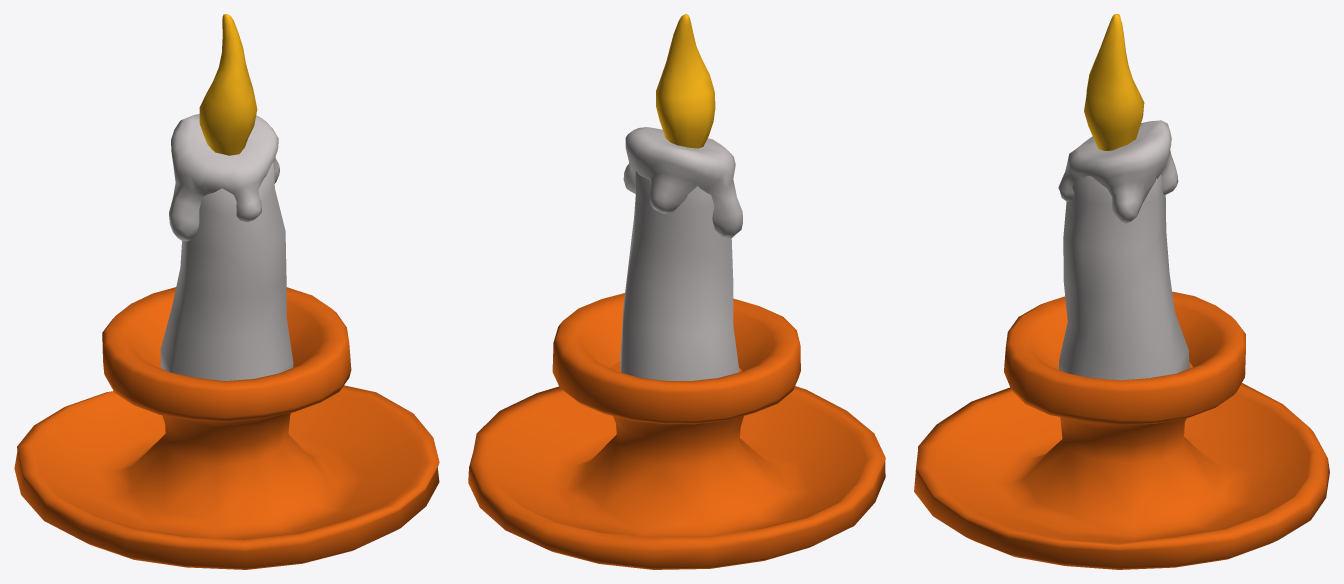
File: SM_Candle_01.fbx
3 renders of one model, left to right at view 1: azimuth 30°, elevation 25°; view 2: azimuth 150°, elevation 25°; view 3: azimuth 270°, elevation 25°, orthographic.
Parts seen in each view (by area): view 1: CANDLE_001; view 2: CANDLE_001; view 3: CANDLE_001.
Boxes of the visible parts, x1,y1,x2,y2 form: CANDLE_001: (14,14,439,569); CANDLE_001: (468,14,885,569); CANDLE_001: (914,14,1329,569).
Size of the model in its own units: 0.2179 by 0.2777 by 0.2175.
